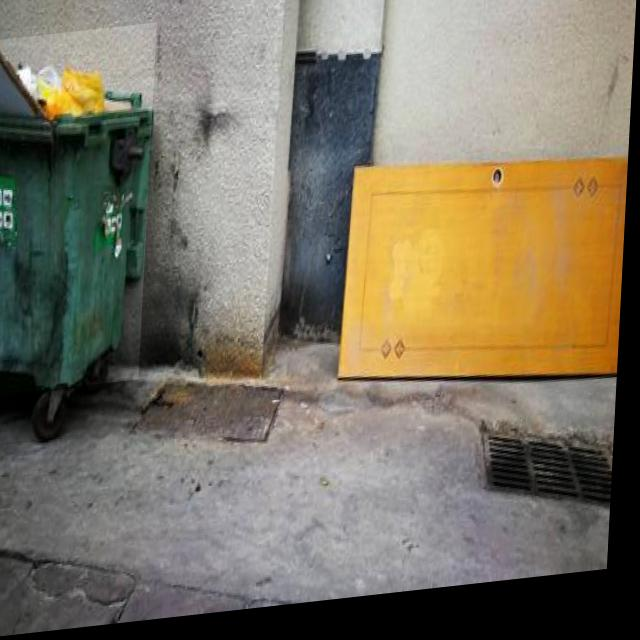overflow: (0, 26, 157, 397)
